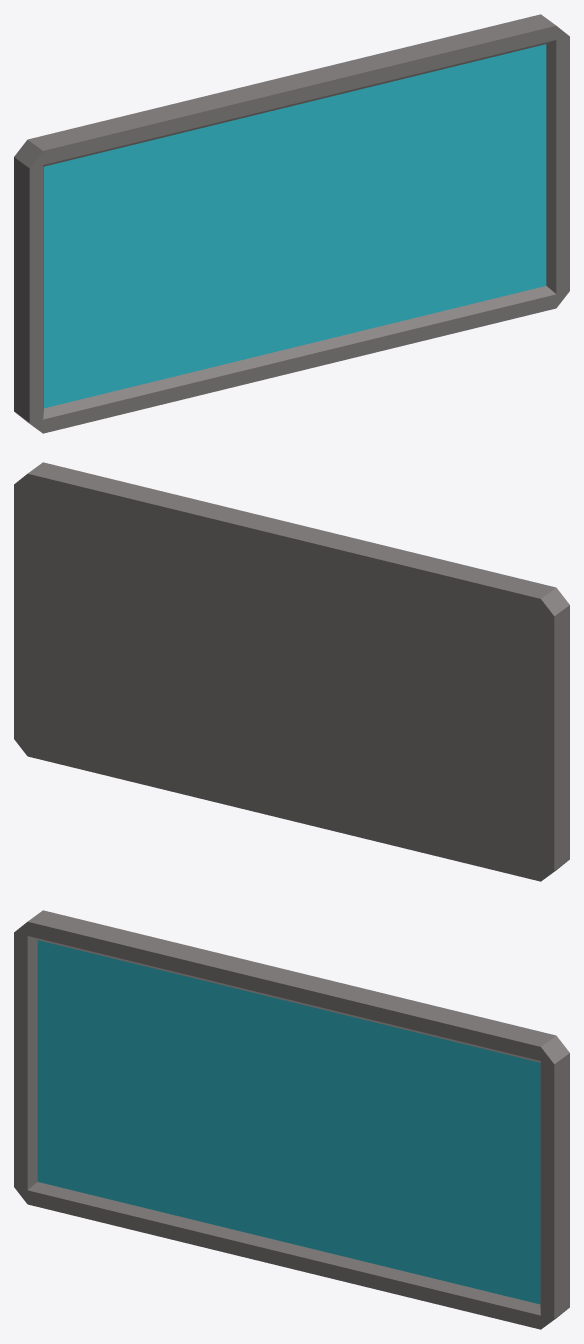
File: scifi-neon-screen.fbx
3 renders of one model, top to bottom at view 1: azimuth 30°, elevation 25°; view 2: azimuth 150°, elevation 25°; view 3: azimuth 330°, elevation 25°, orthographic.
Parts seen in each view (by area): view 1: scifi-neon-screen; view 2: scifi-neon-screen; view 3: scifi-neon-screen.
Boxes of the visible parts, x1,y1,x2,y2 form: scifi-neon-screen: [14, 14, 569, 433]; scifi-neon-screen: [14, 462, 569, 881]; scifi-neon-screen: [14, 910, 569, 1329].
Bounding box in the file's own units: 2 × 1 × 0.1.
